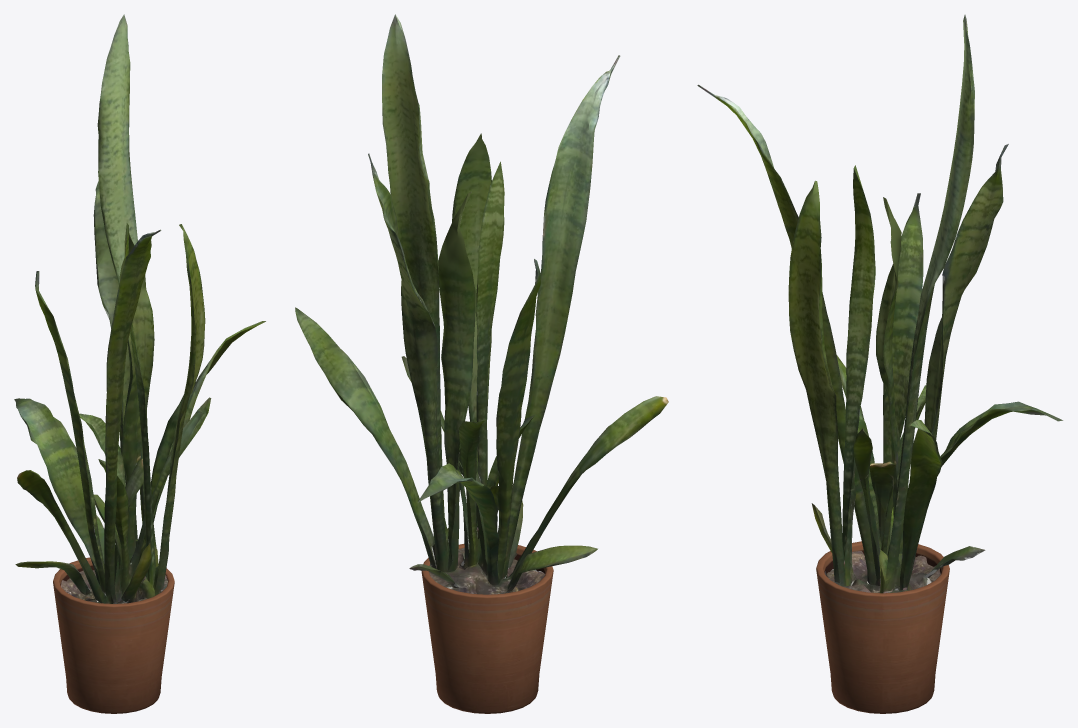
Rendered from sansevieria_tall.glb.
3 renders of one model, left to right at view 1: azimuth 30°, elevation 25°; view 2: azimuth 150°, elevation 25°; view 3: azimuth 270°, elevation 25°, orthographic. The views are drawn at different scales.
Visible parts, largest first — view 1: flowerLP; view 2: flowerLP; view 3: flowerLP.
Boxes of the visible parts, x1,y1,x2,y2 form: flowerLP: (14, 14, 265, 713); flowerLP: (295, 14, 668, 713); flowerLP: (697, 14, 1063, 713).
Size of the model in its own units: 0.373 by 0.7705 by 0.3626.
1 material, 1 textured.
